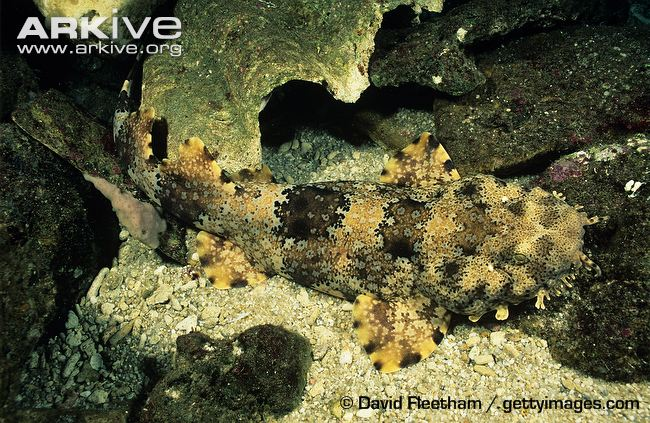shark: (88, 71, 607, 386)
